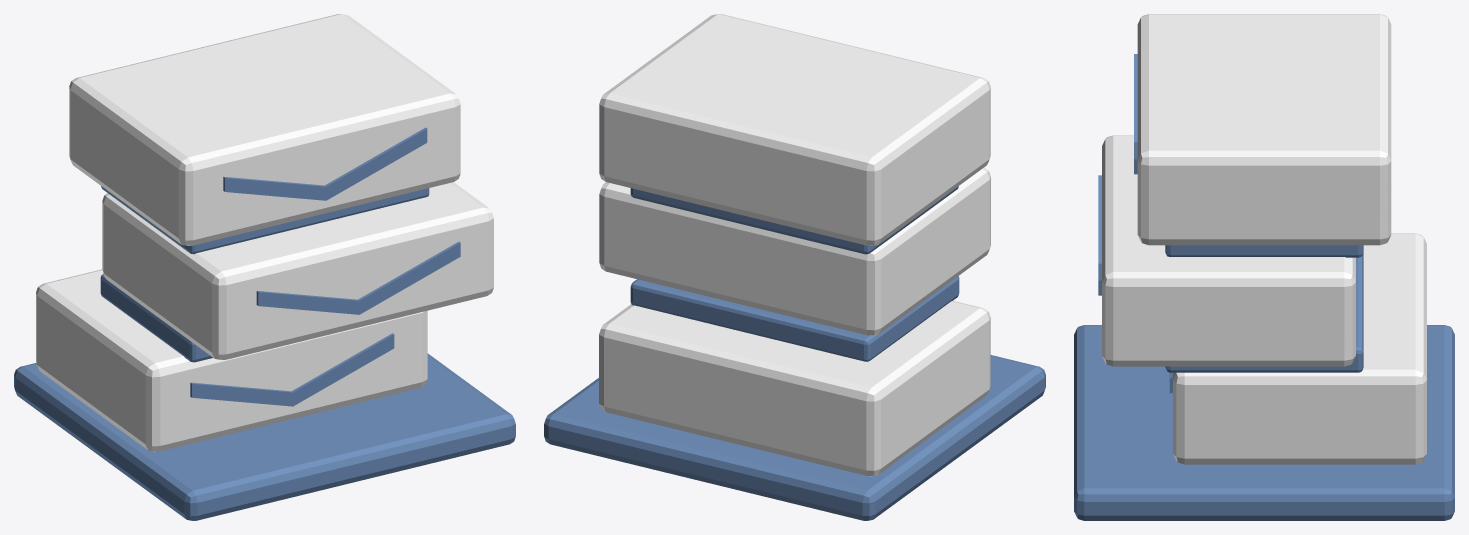
File: queue.glb
The picture shows the model from 3 angles, left to right: view 1: azimuth 30°, elevation 25°; view 2: azimuth 150°, elevation 25°; view 3: azimuth 270°, elevation 25°; orthographic projection. The views are drawn at different scales.
Parts seen in each view (by area): view 1: message.2, message.1, tray, message.0, envelope-fold.1, envelope-fold.0, envelope-fold.2, separator.1, separator.0; view 2: message.2, message.0, message.1, tray, separator.0, separator.1; view 3: message.2, tray, message.1, message.0, separator.1, separator.0, envelope-fold.1, envelope-fold.2.
Boxes of the visible parts, box(x1,y1,x2,y2) form: message.2: box(69, 14, 460, 245); message.1: box(102, 182, 493, 359); tray: box(14, 353, 515, 520); message.0: box(36, 269, 427, 451); envelope-fold.1: box(256, 241, 460, 314); envelope-fold.0: box(190, 333, 394, 406); envelope-fold.2: box(223, 127, 427, 200); separator.1: box(101, 186, 429, 254); separator.0: box(100, 274, 212, 362); message.2: box(599, 14, 990, 245); message.0: box(599, 301, 990, 476); message.1: box(599, 167, 990, 335); tray: box(544, 355, 1045, 520); separator.0: box(630, 276, 959, 361); separator.1: box(630, 186, 958, 254); message.2: box(1137, 14, 1391, 245); tray: box(1074, 325, 1454, 520); message.1: box(1102, 135, 1355, 366); message.0: box(1173, 233, 1426, 464); separator.1: box(1165, 245, 1363, 257); separator.0: box(1165, 253, 1363, 372); envelope-fold.1: box(1098, 175, 1101, 295); envelope-fold.2: box(1134, 54, 1137, 174).
Bounding box in the file's own units: 1.6 × 1.55 × 1.5.
